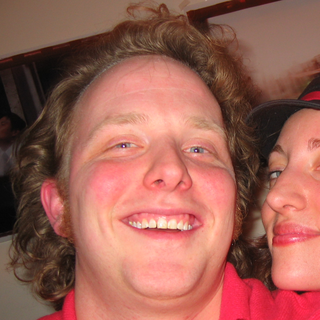eye: (107, 133, 145, 155), (179, 143, 220, 157)
